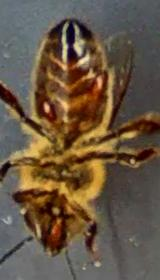varroa_mite: (76, 59, 120, 103), (33, 96, 67, 119)
